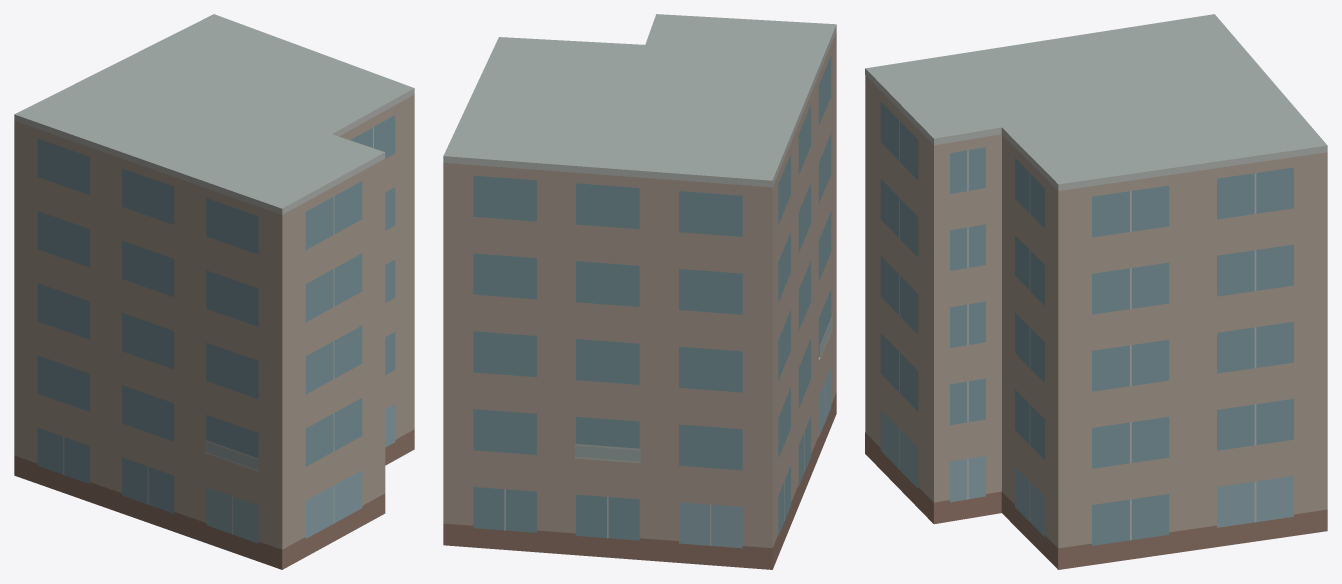
The model's file is survey-upis-32864488.glb.
3 views of the same model, side by side, from view 1: azimuth 30°, elevation 25°; view 2: azimuth 150°, elevation 25°; view 3: azimuth 270°, elevation 25° (orthographic). The views are drawn at different scales.
Parts seen in each view (by area): view 1: survey-upis-32864488.tmp; view 2: survey-upis-32864488.tmp; view 3: survey-upis-32864488.tmp.
Boxes of the visible parts, x1,y1,x2,y2 form: survey-upis-32864488.tmp: (14,14,414,569); survey-upis-32864488.tmp: (443,14,836,569); survey-upis-32864488.tmp: (865,14,1327,569).
Size of the model in its own units: 13.47 by 14.2 by 15.45.
